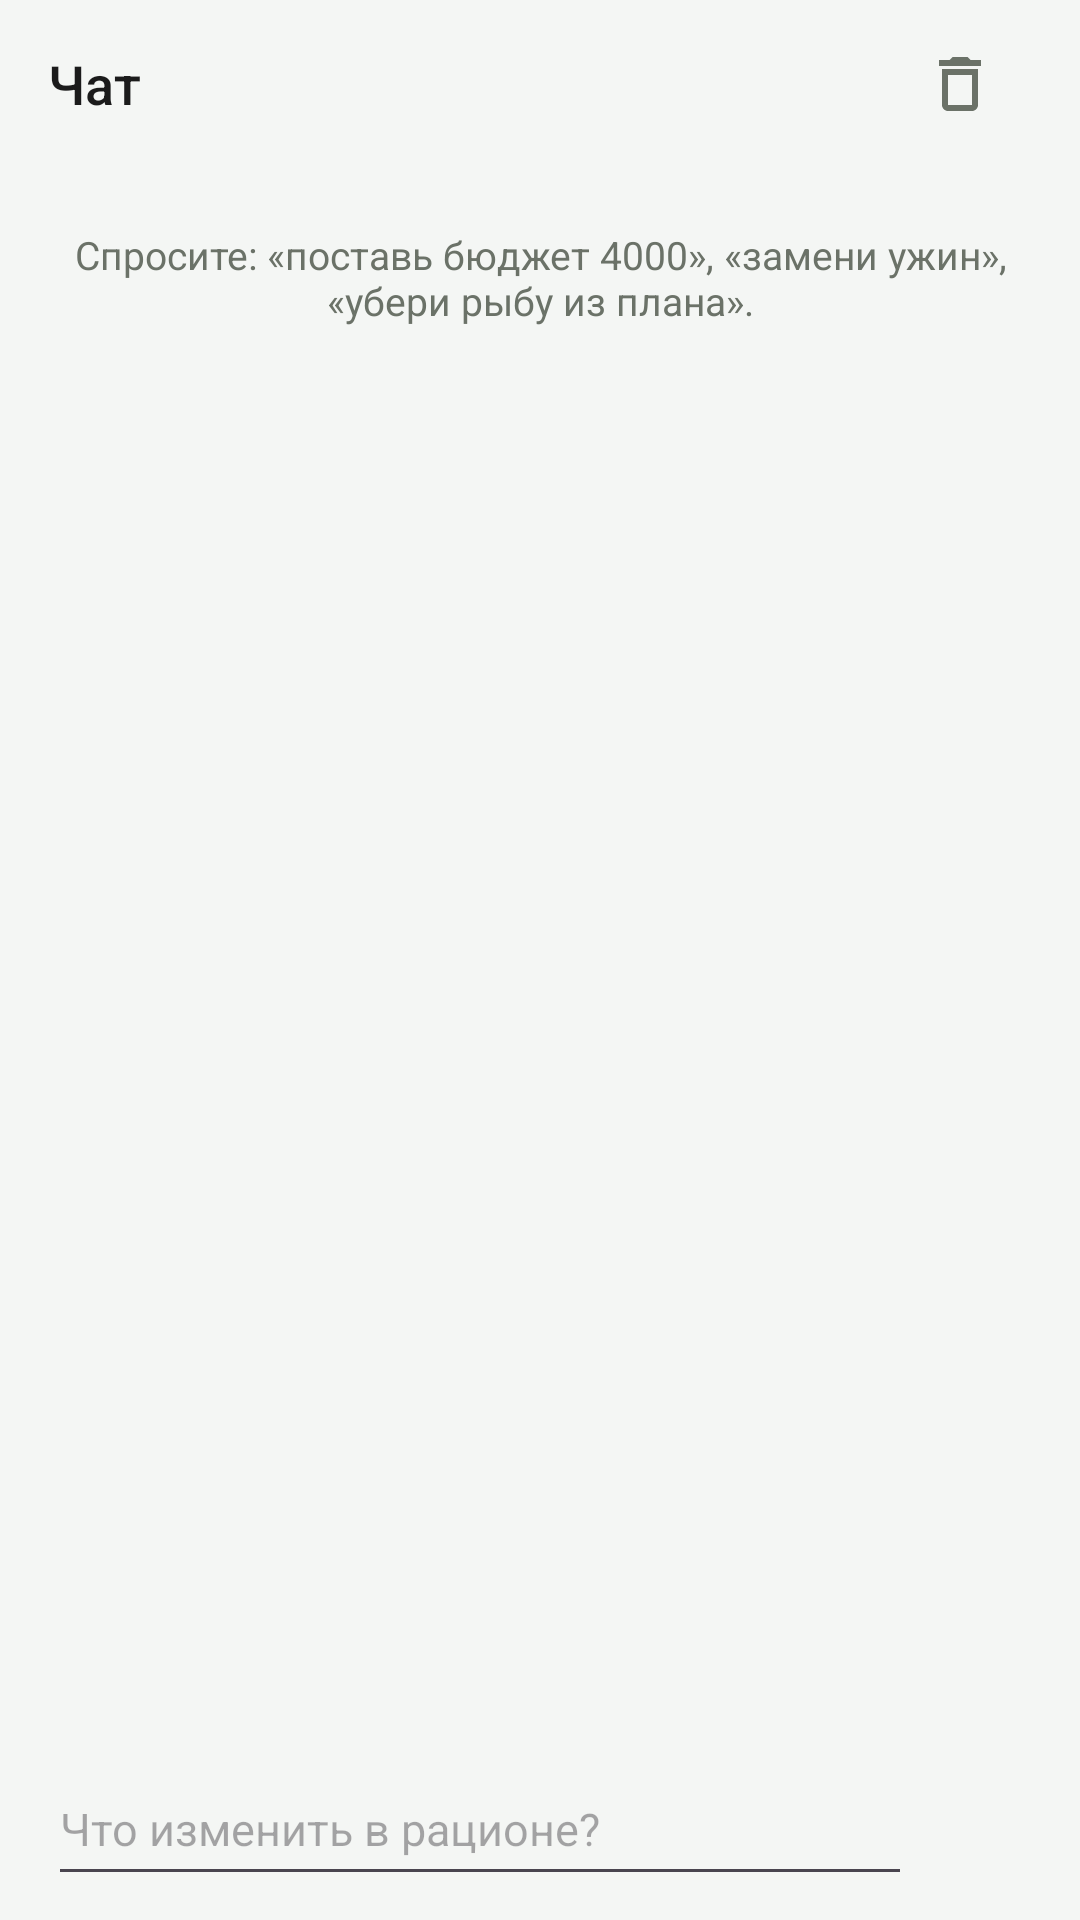

Icon bounding boxes for this 1080*1920 phone screenshot, format (x1, y1, x2, y2):
Очистить переписку: (939, 57, 981, 111)
